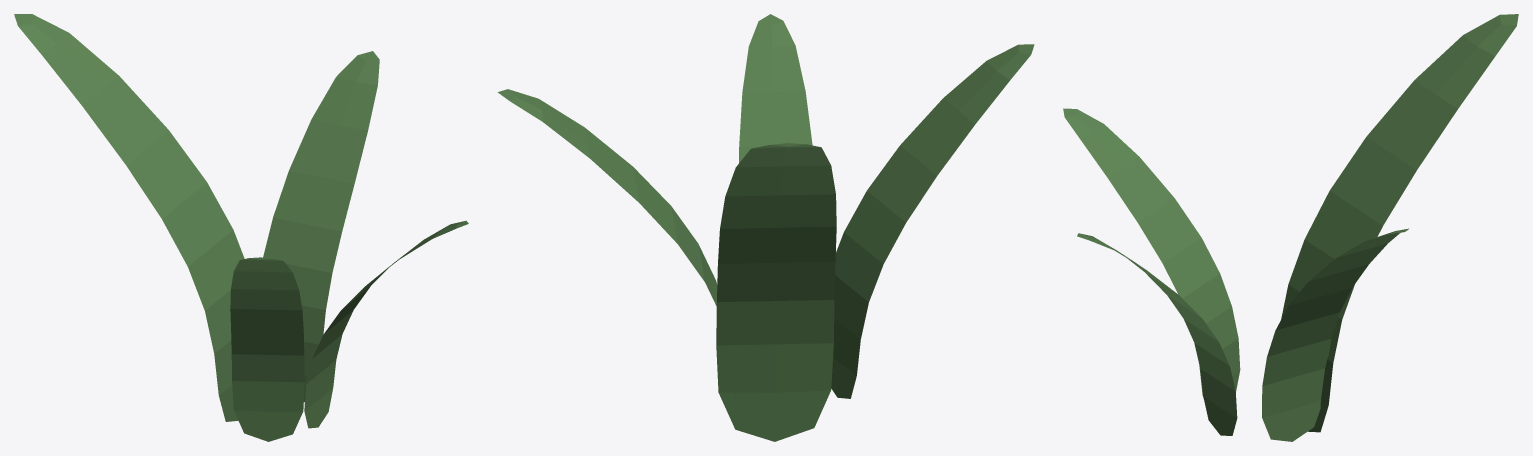
Rendered from grass.glb.
3 renders of one model, left to right at view 1: azimuth 30°, elevation 25°; view 2: azimuth 150°, elevation 25°; view 3: azimuth 270°, elevation 25°, orthographic. The views are drawn at different scales.
Parts seen in each view (by area): view 1: Plane.001, Plane, Plane.003, Plane.002; view 2: Plane.001, Plane.003, Plane.002, Plane; view 3: Plane.001, Plane.003, Plane, Plane.002.
Boxes of the visible parts, bbox=[...] form: Plane.001: bbox=[14, 14, 244, 421]; Plane: bbox=[263, 51, 379, 402]; Plane.003: bbox=[230, 257, 304, 441]; Plane.002: bbox=[304, 220, 468, 428]; Plane.001: bbox=[716, 143, 836, 441]; Plane.003: bbox=[831, 44, 1034, 398]; Plane.002: bbox=[739, 14, 812, 162]; Plane: bbox=[497, 89, 735, 396]; Plane.001: bbox=[1281, 14, 1518, 432]; Plane.003: bbox=[1063, 108, 1240, 397]; Plane: bbox=[1262, 228, 1408, 441]; Plane.002: bbox=[1077, 233, 1237, 435].
Size of the model in its own units: 2.14 by 2.37 by 2.73.
